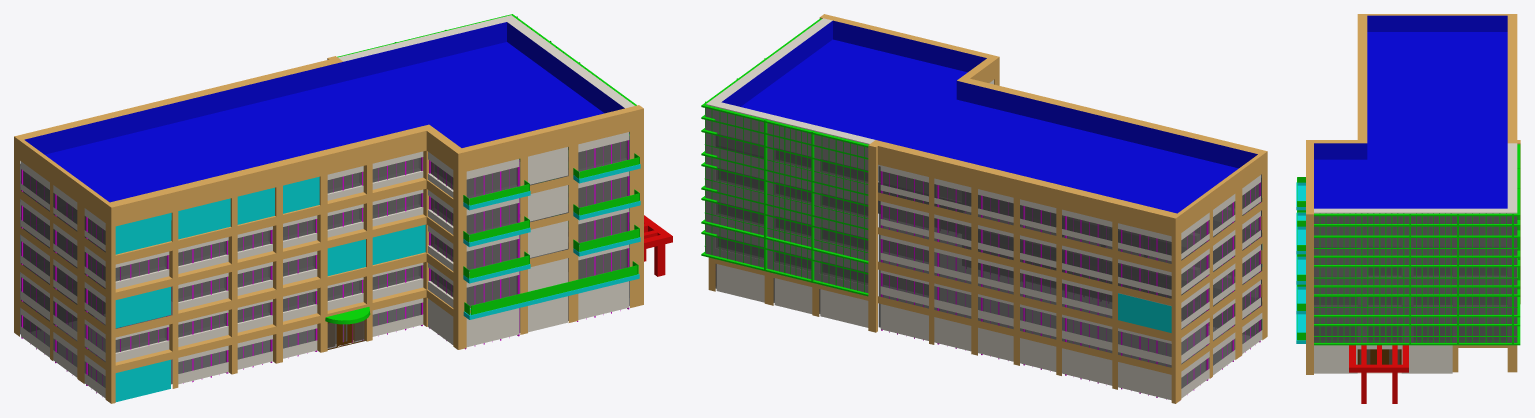
The model's file is building13_middle.fbx.
3 renders of one model, left to right at view 1: azimuth 30°, elevation 25°; view 2: azimuth 150°, elevation 25°; view 3: azimuth 270°, elevation 25°, orthographic. The views are drawn at different scales.
Parts seen in each view (by area): view 1: pCube569; view 2: pCube569; view 3: pCube569.
Part boxes in pixels (left/top/right/bottom): pCube569: left=14, top=14, right=672, bottom=403; pCube569: left=701, top=14, right=1267, bottom=403; pCube569: left=1296, top=14, right=1520, bottom=403.
Size of the model in its own units: 47.1 by 16.56 by 20.06.
